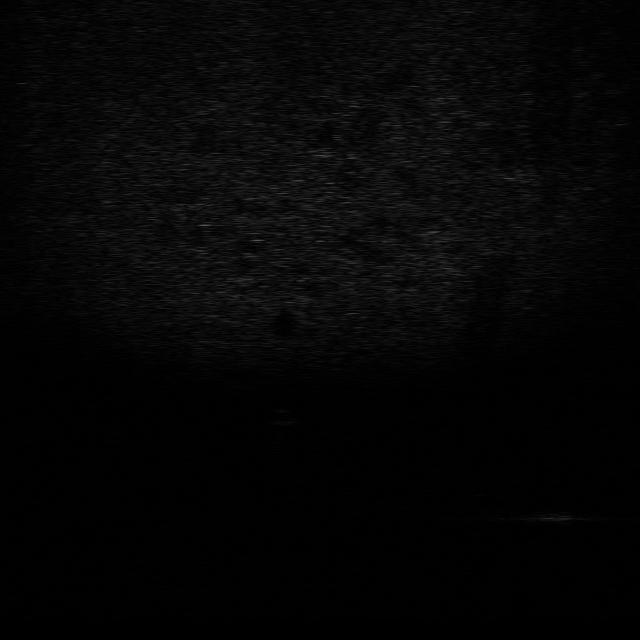ball: (266, 406, 302, 428)
metal bucket: (524, 508, 598, 524)
tyre: (467, 490, 522, 525)
